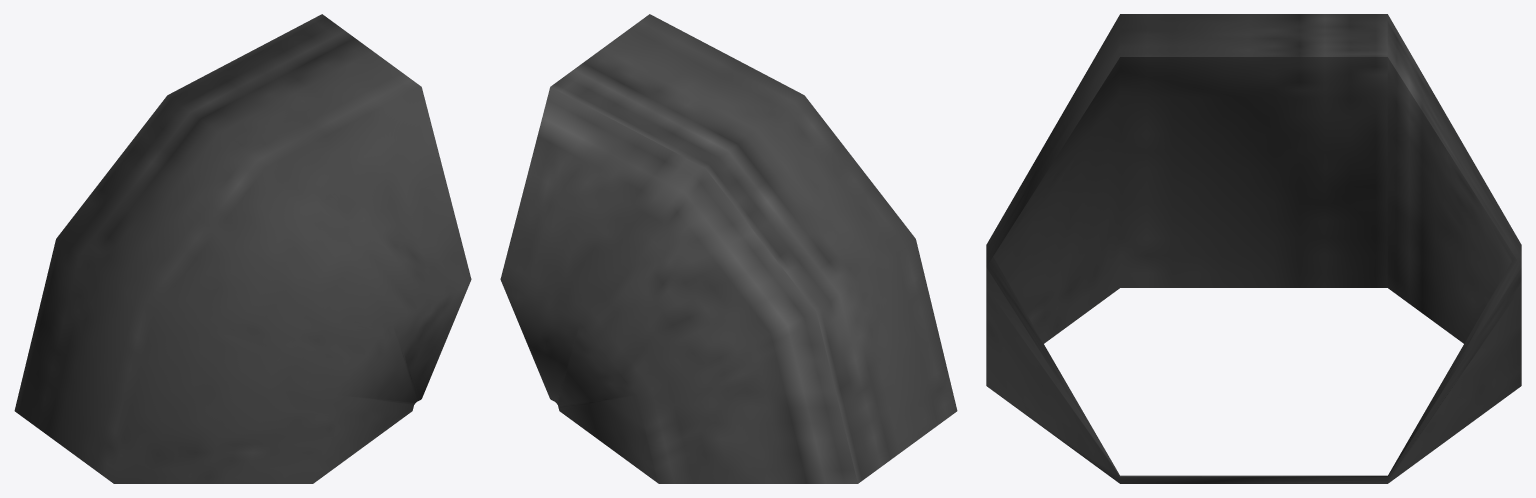
File: CP_Pipe_E_Angle.fbx
3 views of the same model, side by side, from view 1: azimuth 30°, elevation 25°; view 2: azimuth 150°, elevation 25°; view 3: azimuth 270°, elevation 25° (orthographic). The views are drawn at different scales.
Parts seen in each view (by area): view 1: CP_Pipe_E_Angle; view 2: CP_Pipe_E_Angle; view 3: CP_Pipe_E_Angle.
Boxes of the visible parts, box(x1,y1,x2,y2) form: CP_Pipe_E_Angle: box(14, 14, 471, 483); CP_Pipe_E_Angle: box(500, 14, 957, 483); CP_Pipe_E_Angle: box(986, 14, 1521, 483).
Bounding box in the file's own units: 8.53 × 8.53 × 9.56.
